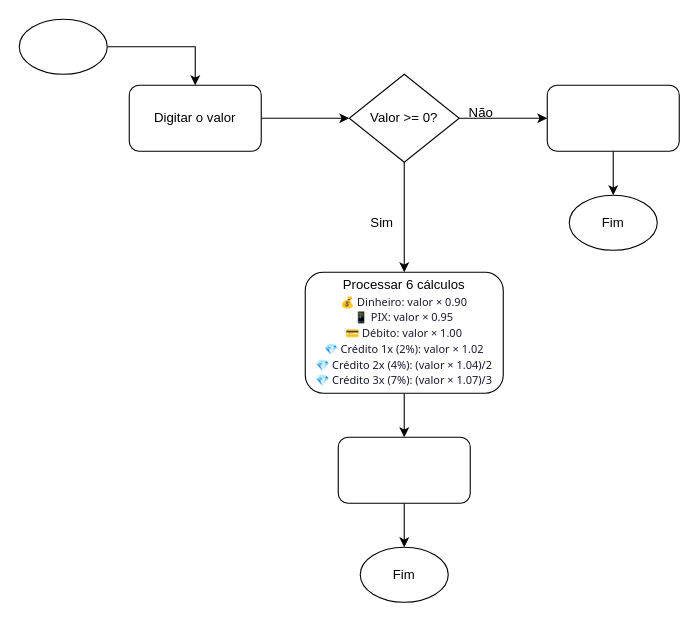
This 699x622 diagram has some shape labels left out. The centre of each missing label's shape, as x and y in pixels:
"Exibir 6 cards" belongs at (403,469).
"exibir erro" belongs at (612,117).
"Início" belongs at (62,46).
